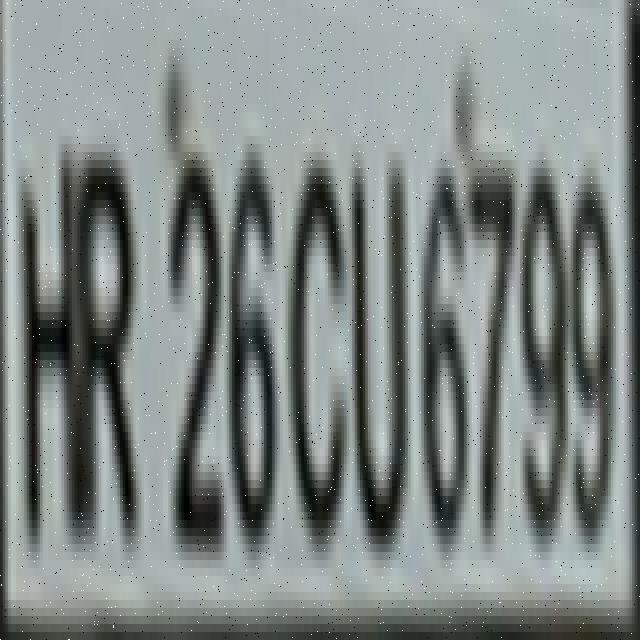licenseplate: (18, 119, 626, 633)
